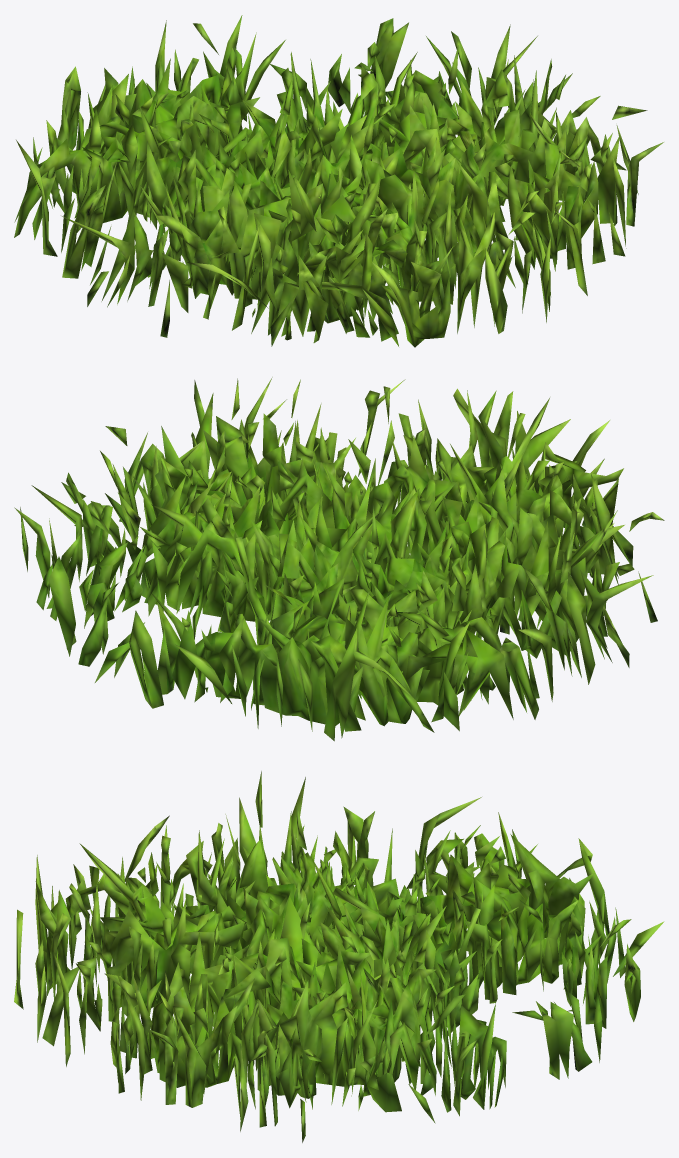
Rendered from Meshy_AI_Grass_0301222612_texture.glb.
3 views of the same model, one above another, from view 1: azimuth 30°, elevation 25°; view 2: azimuth 150°, elevation 25°; view 3: azimuth 270°, elevation 25° (orthographic). The views are drawn at different scales.
Visible parts, largest first — view 1: Mesh_0; view 2: Mesh_0; view 3: Mesh_0.
Boxes of the visible parts, bbox=[...] form: Mesh_0: bbox=[14, 15, 663, 347]; Mesh_0: bbox=[14, 377, 664, 741]; Mesh_0: bbox=[14, 771, 664, 1142].
Bounding box in the file's own units: 4.31 × 0.9995 × 4.29.
Materials: 1 (1 with a texture image).
